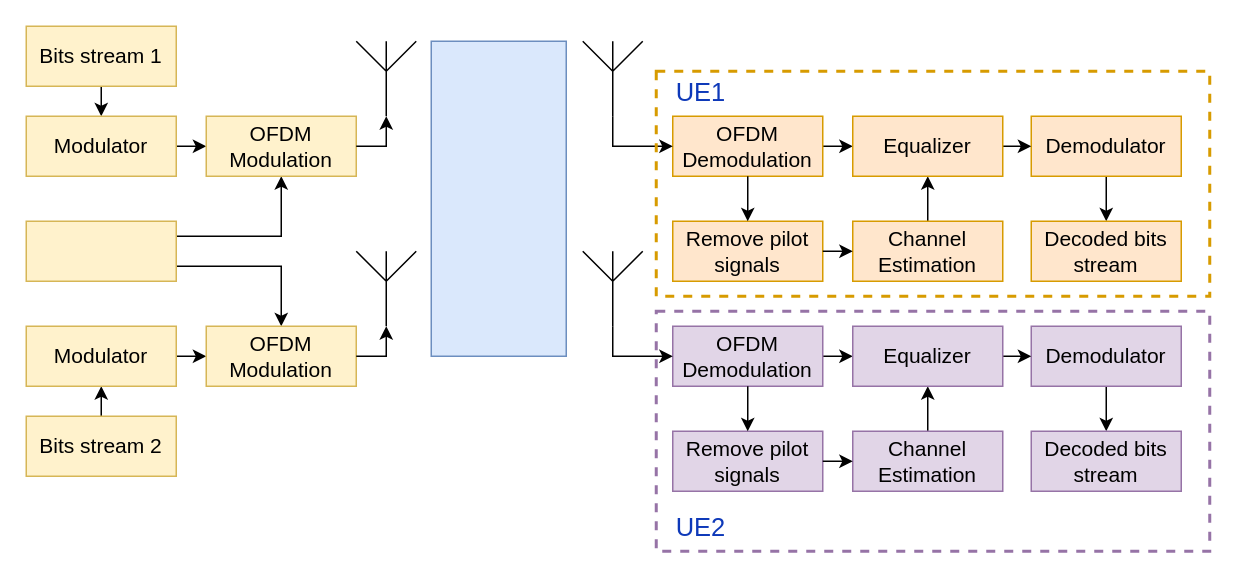
Image size: 1238x579. Some labels were removed from this diagram. Here are the shapes that lost their labels. From the top down, the centre of each, then its label:
At point 498,198: "Rayleigh channel , AWGN".
At point 100,250: "Pilot signals".
